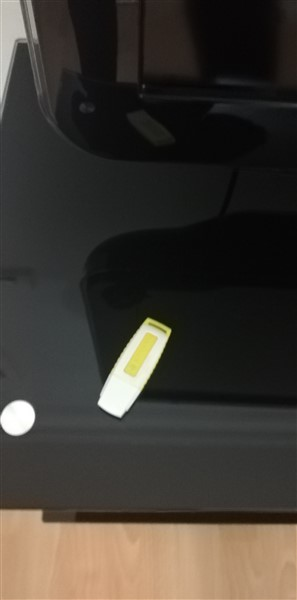flash disk: (92, 314, 176, 428)
